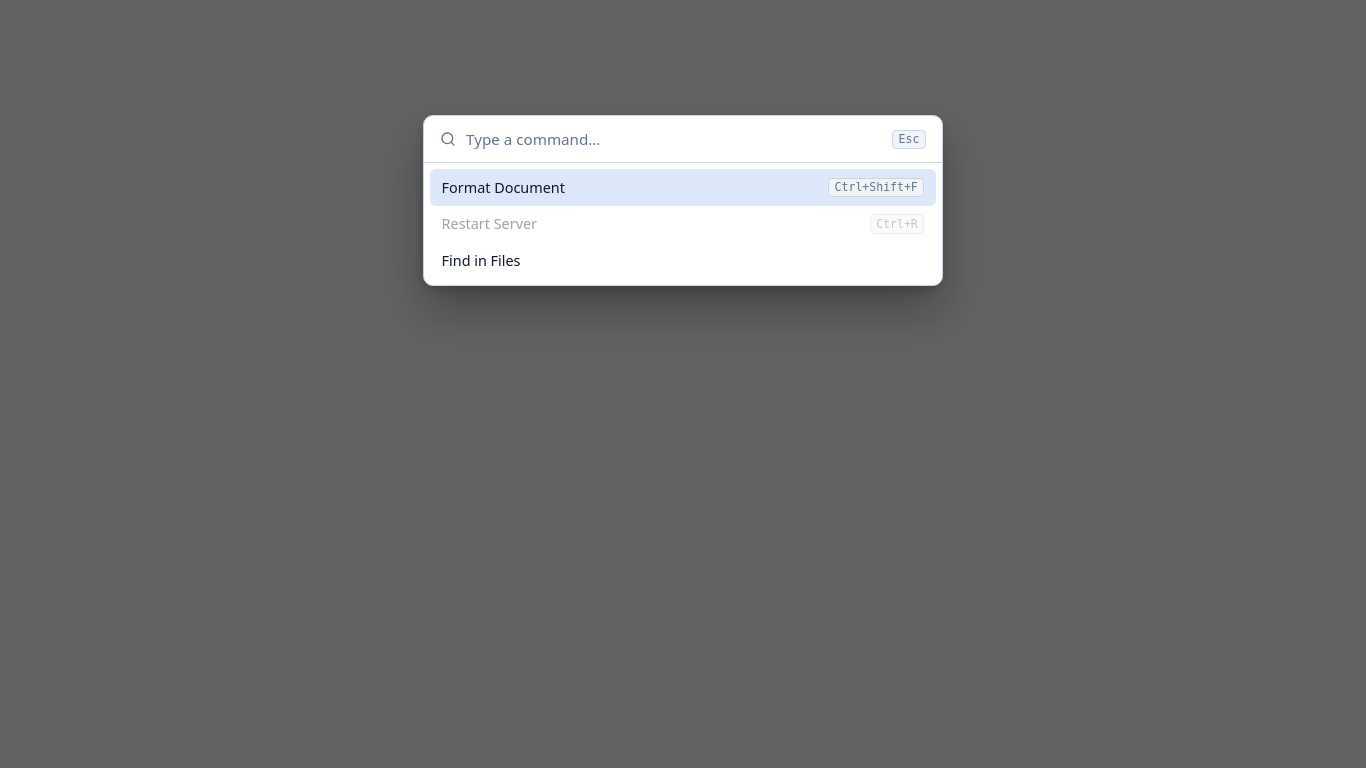
it: CommandPalette.svelte › shows empty state when no commands match
This screenshot has width=1366, height=768.
Type "xyz" into the field with placeholder "Type a command…". click: x=674, y=139
box: [464, 128, 884, 150]
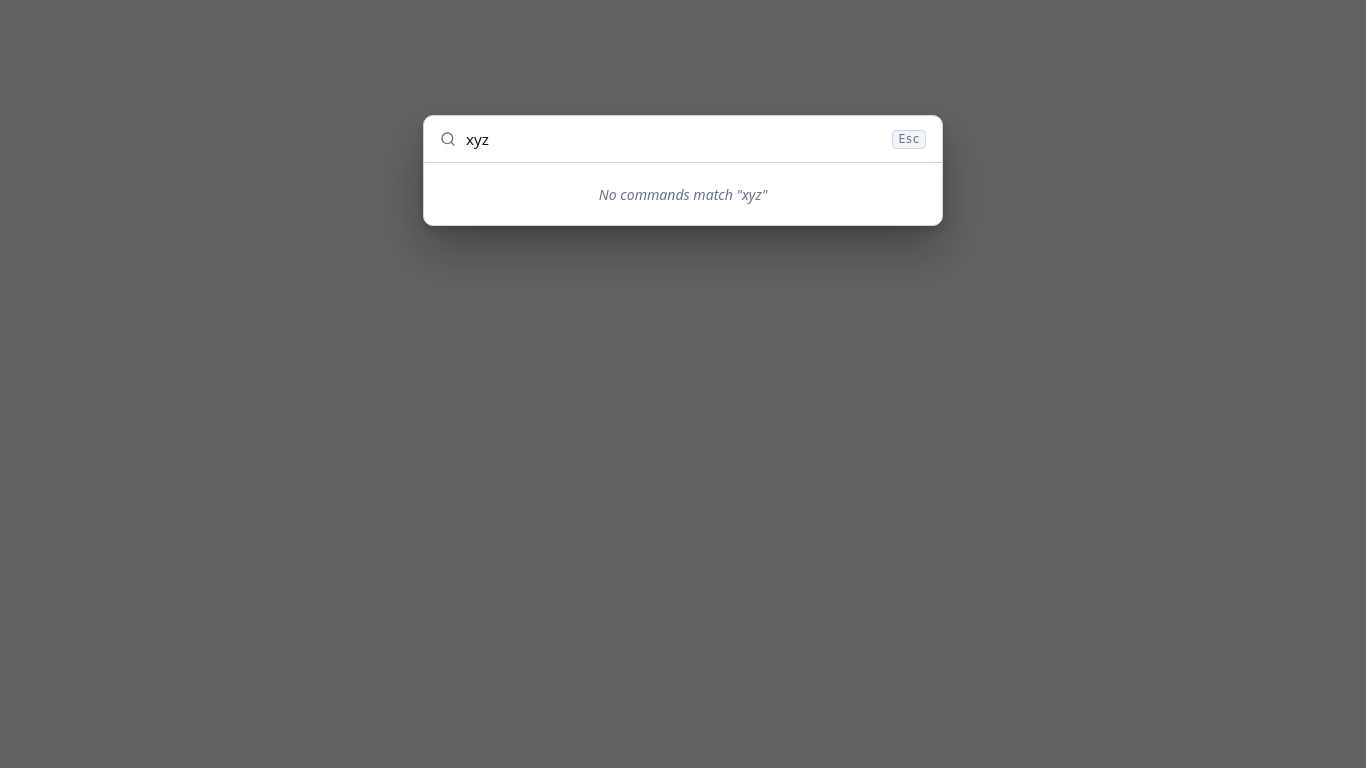
Expected: the list item "No commands match \"xyz\"" is shown, [599, 185, 767, 204]
